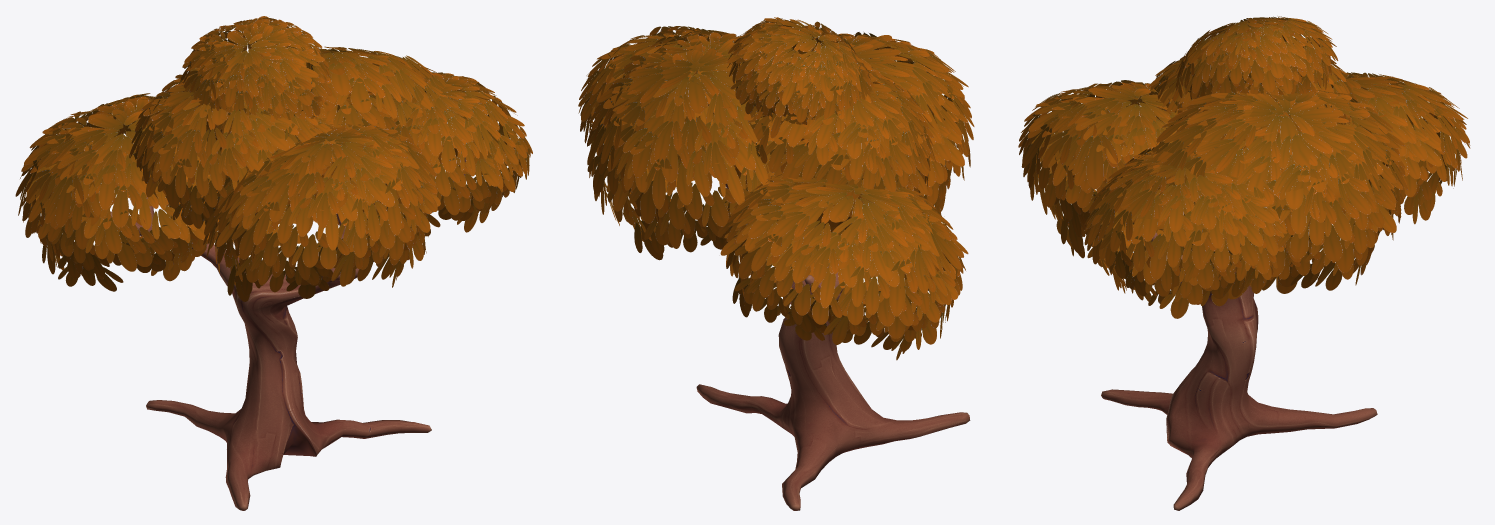
Rendered from Tree01.glb.
3 renders of one model, left to right at view 1: azimuth 30°, elevation 25°; view 2: azimuth 150°, elevation 25°; view 3: azimuth 270°, elevation 25°, orthographic. The views are drawn at different scales.
Parts seen in each view (by area): view 1: Leaves, Trunk; view 2: Leaves, Trunk; view 3: Leaves, Trunk.
Part boxes in pixels (x1,y1,x2,y2): Leaves: (15, 16, 532, 301); Trunk: (110, 157, 465, 510); Leaves: (578, 17, 974, 360); Trunk: (696, 183, 970, 510); Leaves: (1018, 16, 1470, 318); Trunk: (1101, 227, 1377, 510).
Size of the model in its own units: 6.96 by 6.52 by 6.49.
2 materials, 2 textured.
